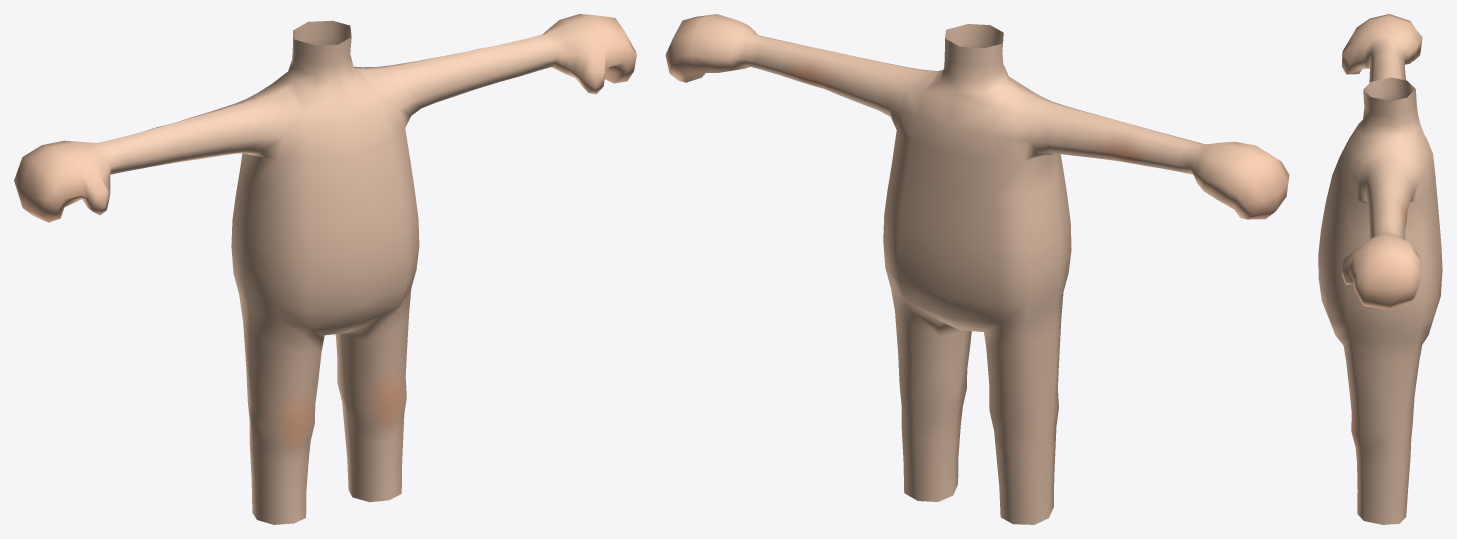
The model's file is Body_3.fbx.
3 views of the same model, side by side, from view 1: azimuth 30°, elevation 25°; view 2: azimuth 150°, elevation 25°; view 3: azimuth 270°, elevation 25° (orthographic). The views are drawn at different scales.
Visible parts, largest first — view 1: Body_3; view 2: Body_3; view 3: Body_3.
Boxes of the visible parts, x1,y1,x2,y2 form: Body_3: (14,14,636,524); Body_3: (665,14,1289,524); Body_3: (1318,14,1442,524).
Size of the model in its own units: 130 by 95.87 by 26.46.
